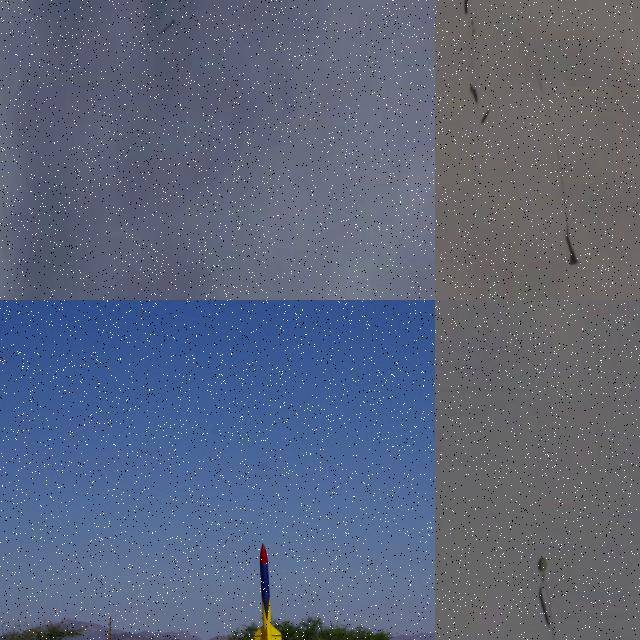Rocket: (254, 542, 282, 640), (565, 230, 580, 270), (161, 20, 176, 34)
